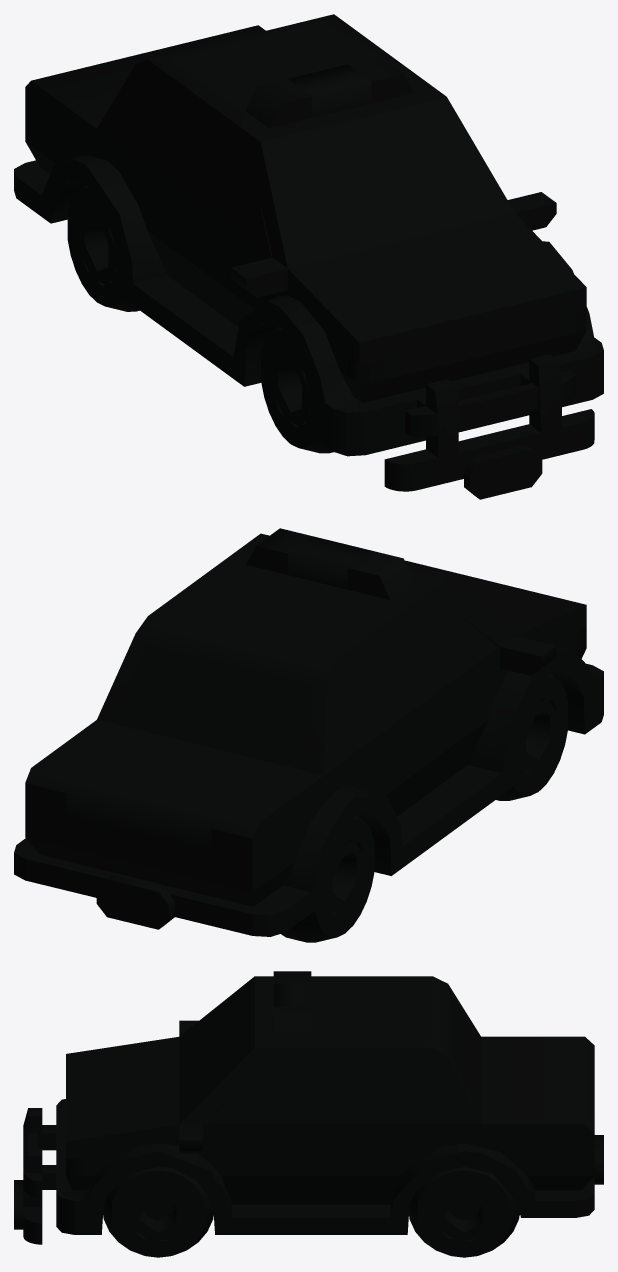
Rendered from police.glb.
3 views of the same model, one above another, from view 1: azimuth 30°, elevation 25°; view 2: azimuth 150°, elevation 25°; view 3: azimuth 270°, elevation 25° (orthographic). The views are drawn at different scales.
Visible parts, largest first — view 1: body, grill, wheel-back-right, wheel-front-right; view 2: body, wheel-back-right, wheel-front-right; view 3: body, wheel-front-left, wheel-back-left, grill.
Boxes of the visible parts, box(x1,y1,x2,y2) form: body: box(14, 14, 603, 456); grill: box(384, 354, 594, 499); wheel-back-right: box(67, 184, 139, 311); wheel-front-right: box(261, 326, 333, 453); body: box(14, 528, 603, 936); wheel-back-right: box(281, 815, 374, 942); wheel-front-right: box(496, 674, 567, 800); body: box(56, 971, 603, 1234); wheel-front-left: box(103, 1166, 213, 1257); wheel-back-left: box(409, 1166, 519, 1257); grill: box(14, 1108, 56, 1244).
Size of the model in its own units: 1.5 by 1.31 by 3.13.
Materials: 1 (1 with a texture image).
